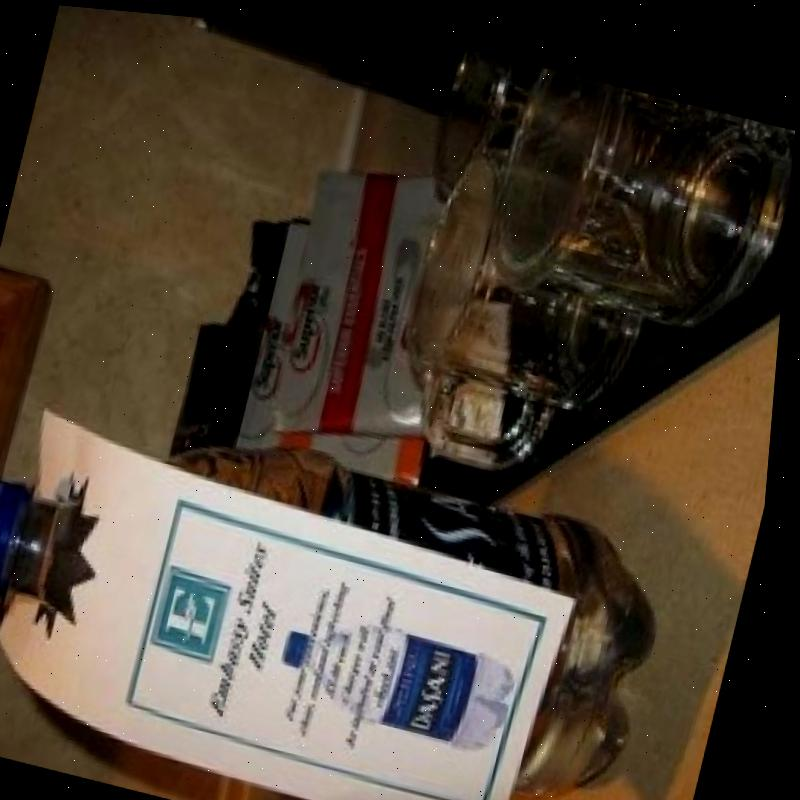botella: (0, 365, 694, 800)
